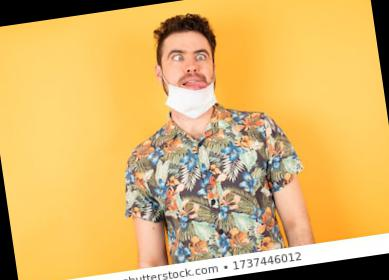mask_weared_incorrect: (158, 35, 221, 117)
